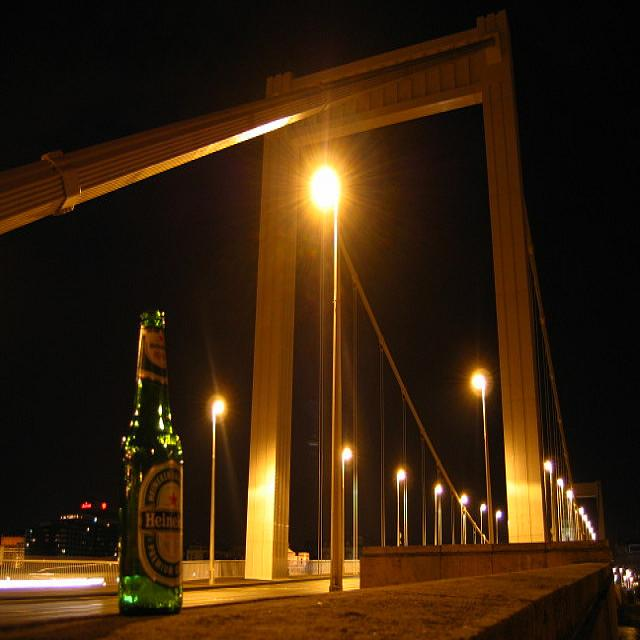Bottle: (130, 259, 197, 631)
